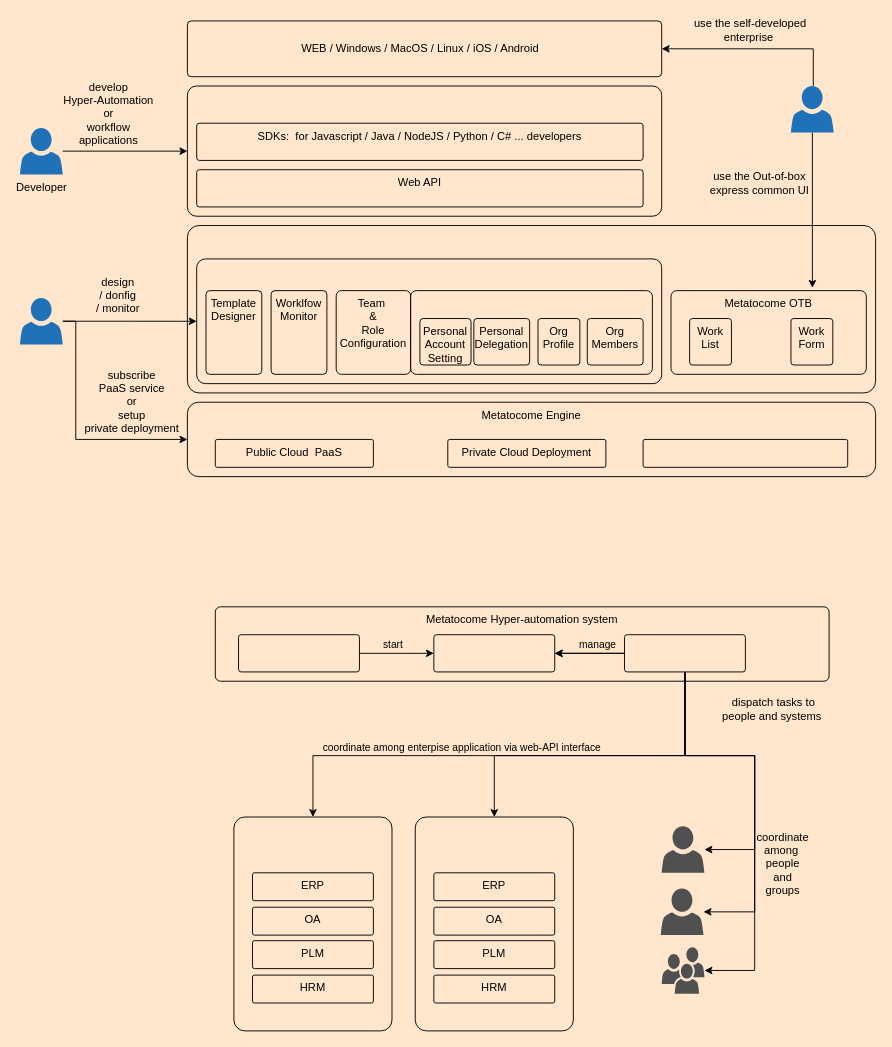
The diagram is 892 pixels wide and 1047 high, and some of its shapes have lost their labels. The box of each missing label's shape, as (x1, y1, x2, y2) in pixels:
Admin: (20, 298, 62, 344)
Admin Console: (410, 290, 652, 374)
Engine: (624, 634, 745, 672)
Metatocome Admin: (196, 258, 662, 384)
Metatocome Developer: (186, 85, 662, 216)
On-premise Deployment: (642, 438, 848, 467)
On-Premise Enterprise Applications: (233, 816, 392, 1031)
Process: (433, 634, 555, 672)
Subscribed SaaS / PaaS: (414, 816, 573, 1031)
Template: (238, 634, 359, 672)
User: (790, 86, 833, 132)
User Applications: (186, 20, 662, 77)
www.metatocome.com: (186, 225, 876, 393)
